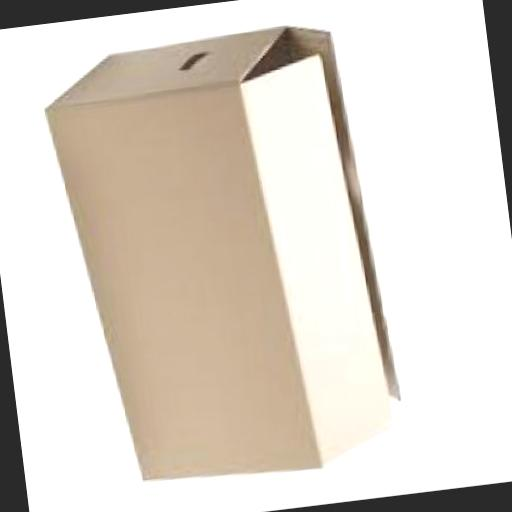cardboard: (39, 16, 410, 495)
